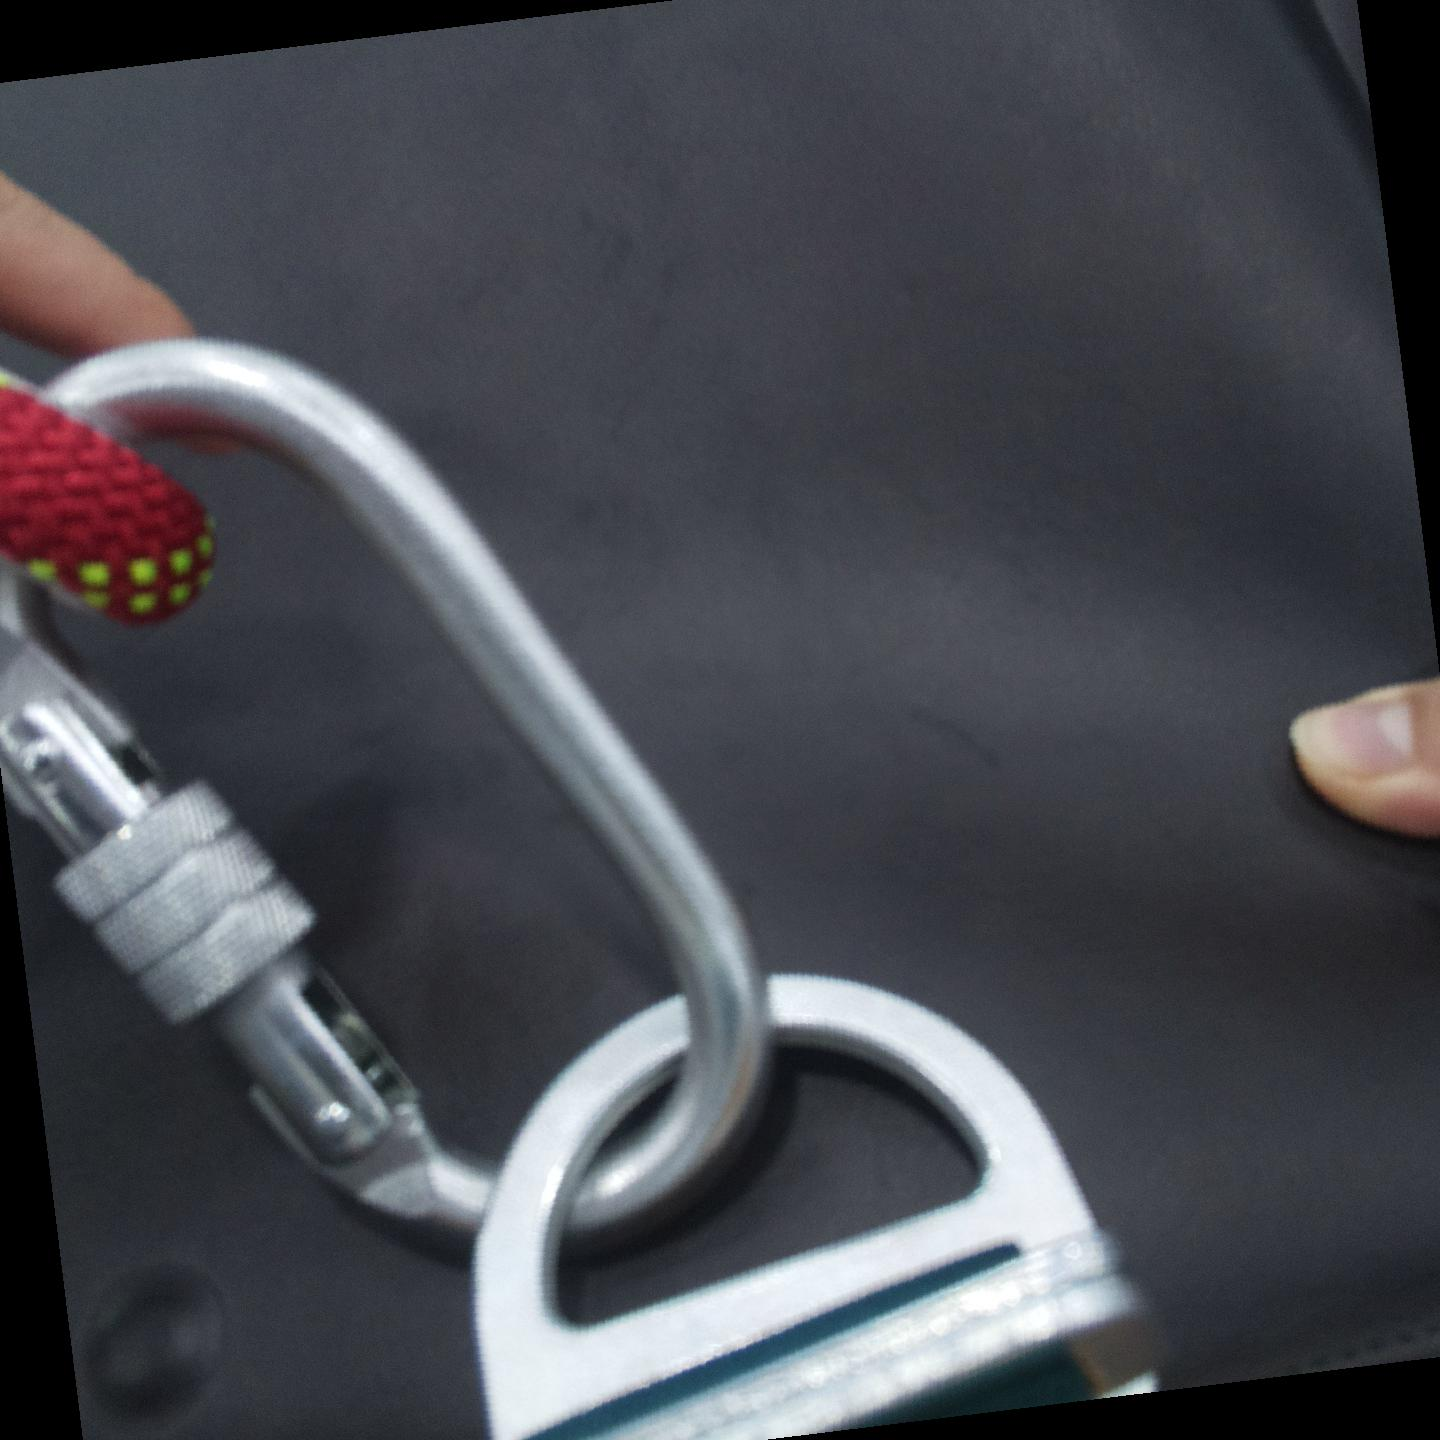SUCCESS: (107, 709, 1187, 1357)
